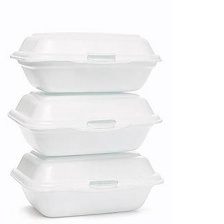foam_box: (3, 86, 168, 160), (3, 23, 166, 97), (6, 147, 168, 220)
